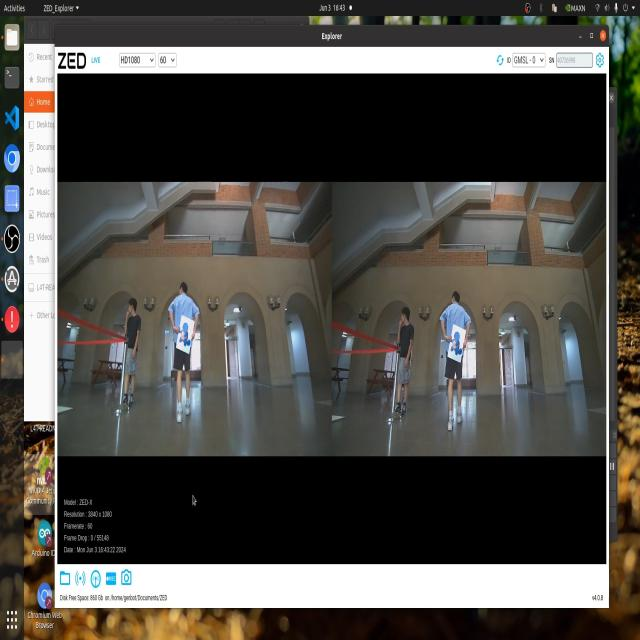blue: (179, 318, 200, 359), (453, 330, 472, 365)
